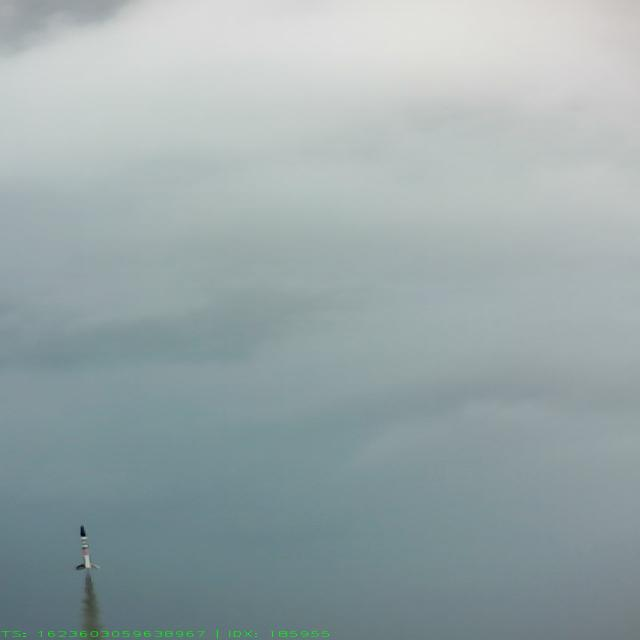Rocket: (76, 524, 100, 570)
